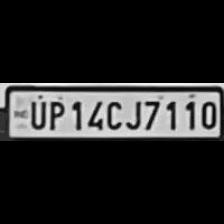0: (196, 97, 218, 128)
1: (160, 98, 180, 130), (66, 98, 83, 130), (180, 98, 196, 130)
4: (84, 96, 104, 130)
7: (142, 96, 160, 130)
C: (104, 98, 122, 130)
J: (122, 96, 142, 130)
P: (45, 98, 65, 130)
U: (26, 97, 46, 128)
